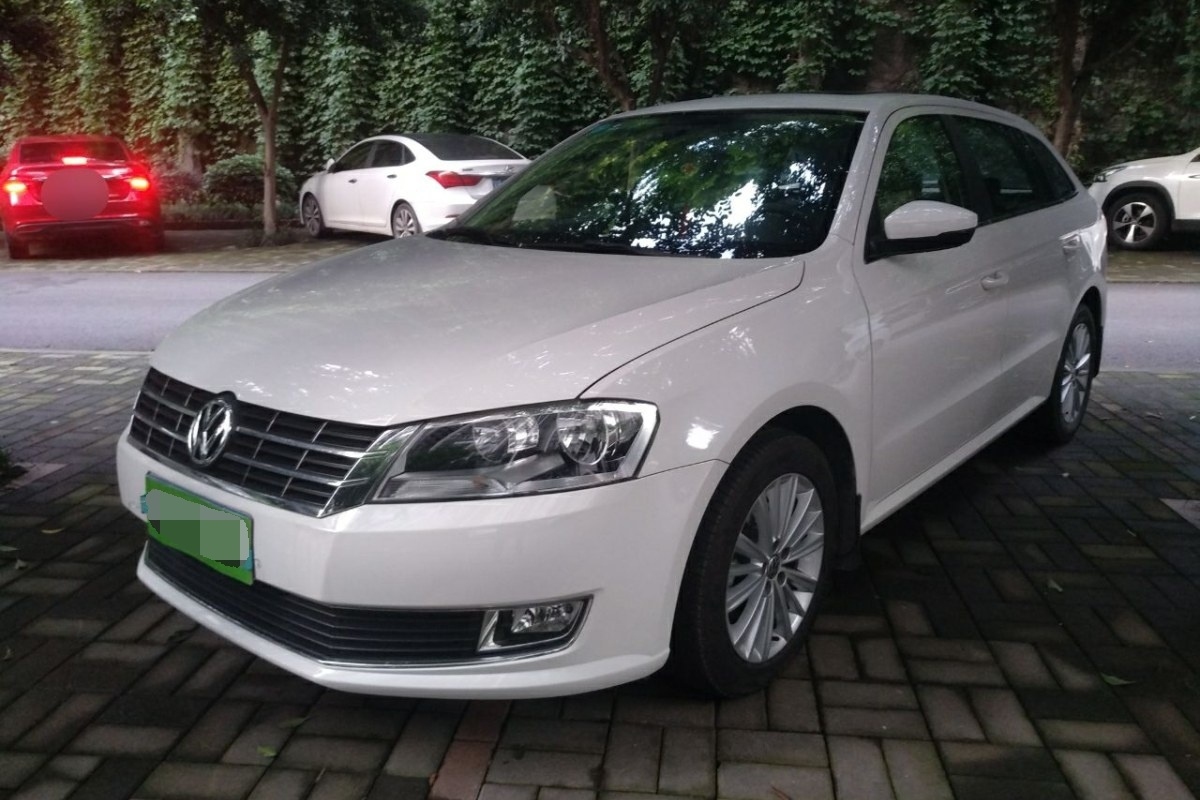family sedan: (110, 87, 1111, 720)
